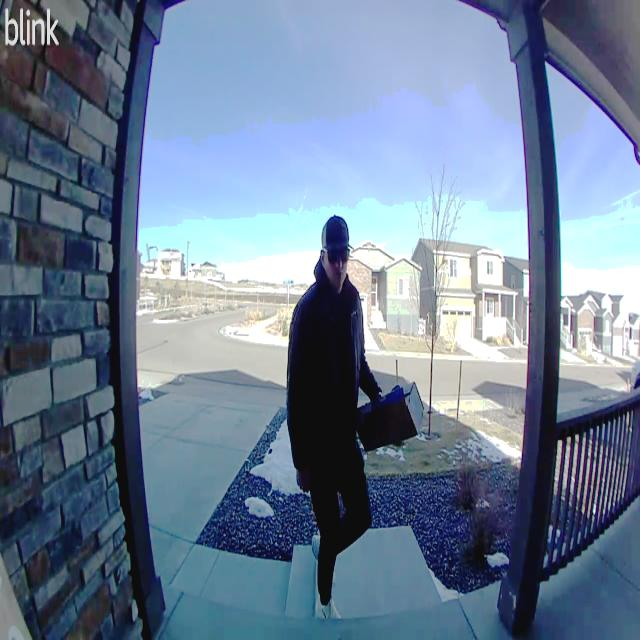Box: (354, 376, 426, 457)
